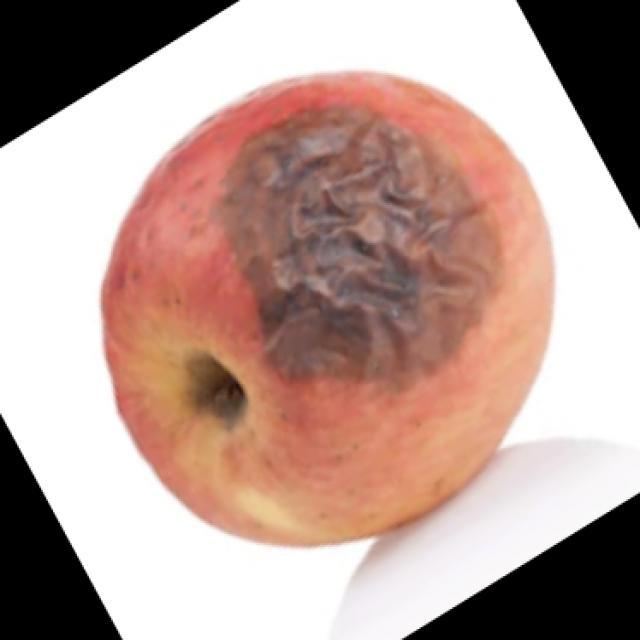Rotten: (105, 50, 550, 542)
